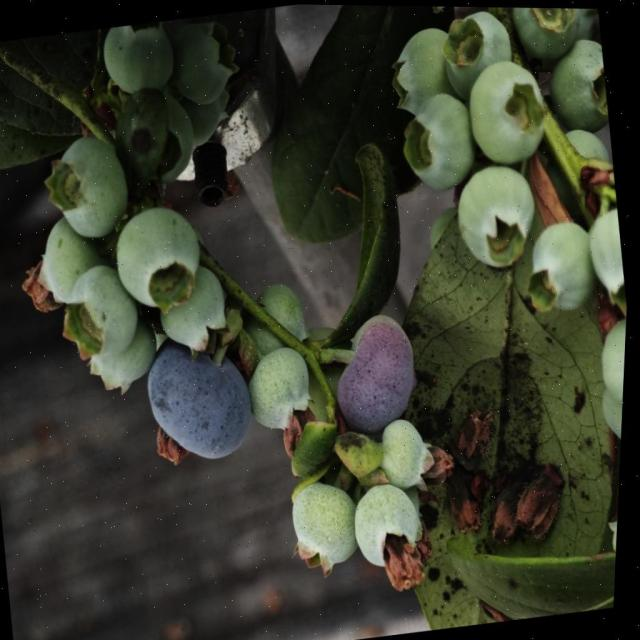RipeBlueBerry: (142, 326, 266, 472)
Semi-RipeBlueBerry: (326, 312, 432, 437)
UnripeBlueBerry: (109, 199, 214, 319), (458, 47, 558, 172)
